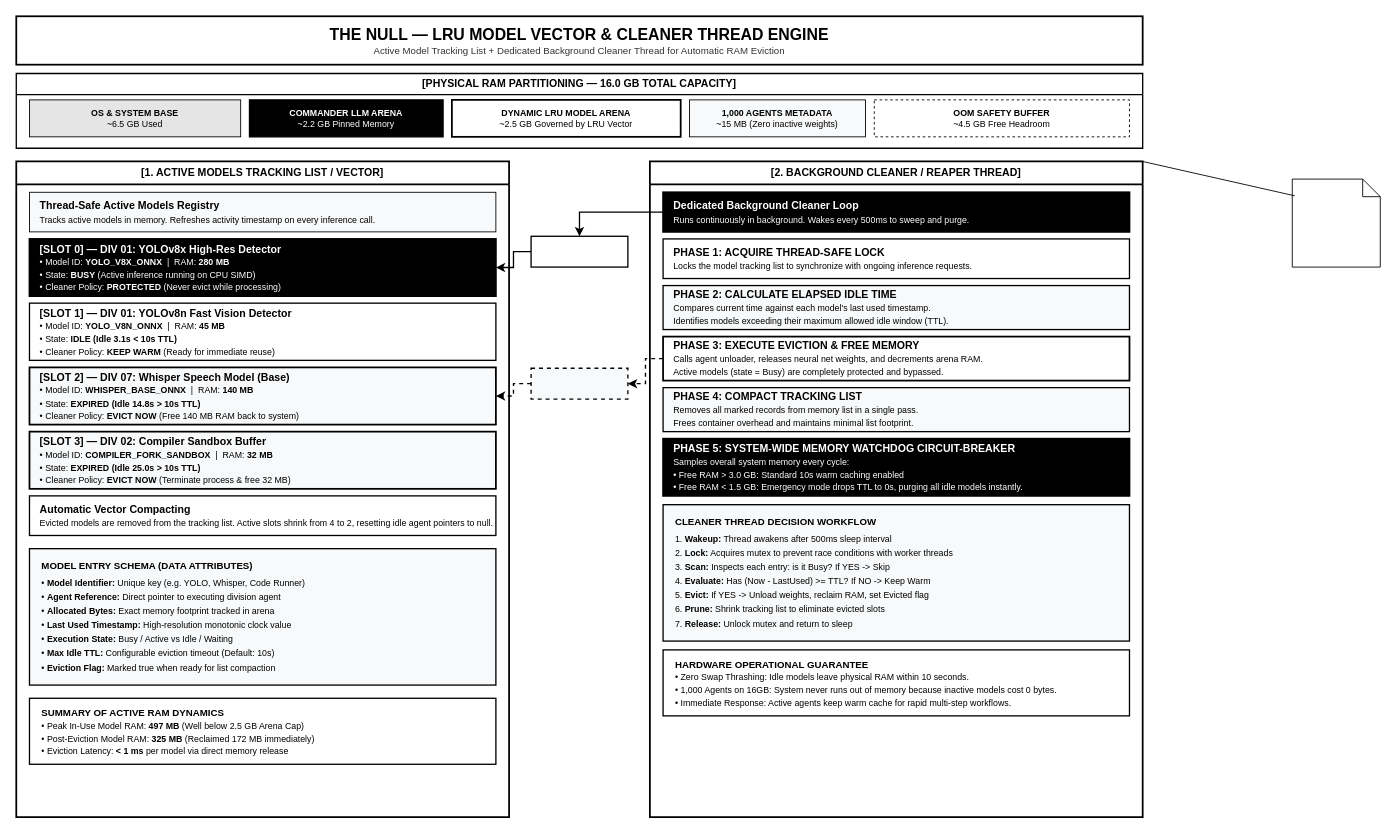
This 1396x832 diagram has some shape labels left out. The shapes that lost their labels are listed below. From the top down, each one's centre as x and y in pixels, then its label:
At point (1335, 222): "to clear this stage it's like garbage collectors in programing language".
At point (579, 251): "500ms Sweep <-------".
At point (579, 383): "EVICT (140 MB) <-------".
